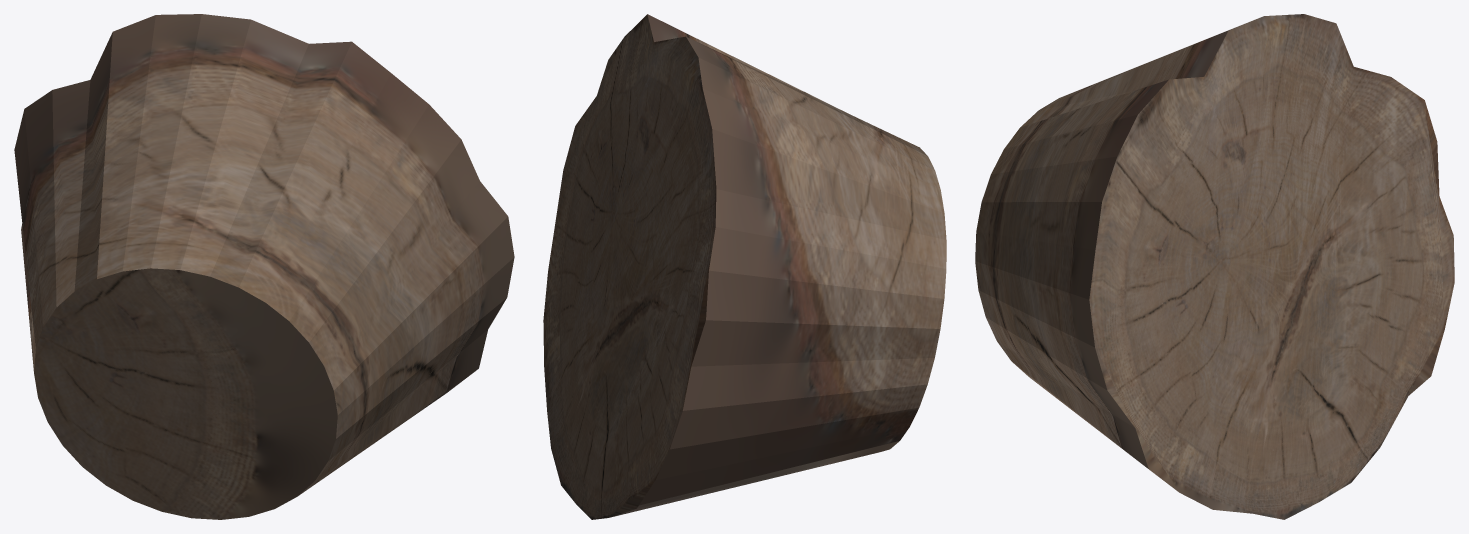
The model's file is cylinder_lev2.glb.
3 views of the same model, side by side, from view 1: azimuth 30°, elevation 25°; view 2: azimuth 150°, elevation 25°; view 3: azimuth 270°, elevation 25° (orthographic). The views are drawn at different scales.
Parts seen in each view (by area): view 1: cylinder_lev2; view 2: cylinder_lev2; view 3: cylinder_lev2.
Part boxes in pixels (x1,y1,x2,y2): cylinder_lev2: (14,14,514,519); cylinder_lev2: (543,14,946,519); cylinder_lev2: (975,14,1454,519).
Size of the model in its own units: 0.3593 by 0.3658 by 0.3587.
Materials: 1 (1 with a texture image).
